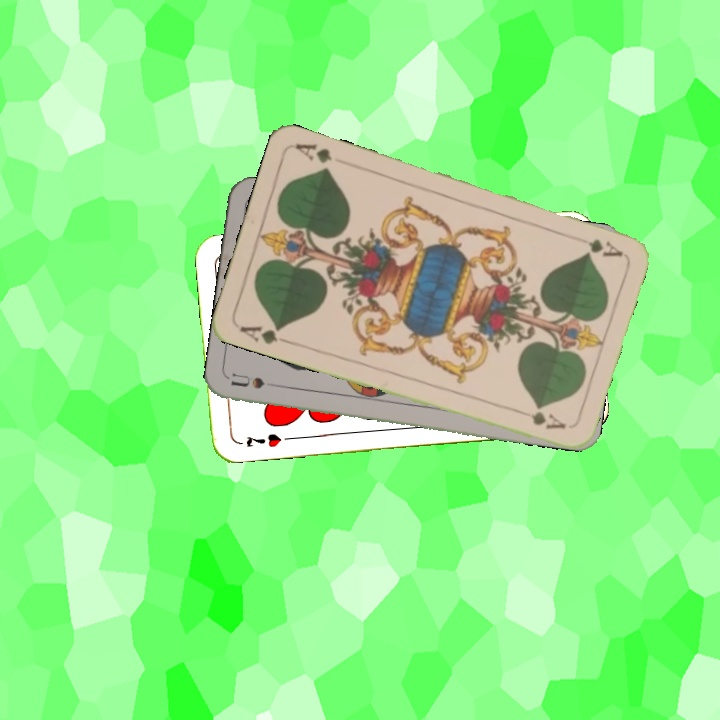GA: (236, 320, 293, 347), (584, 235, 625, 260)
H7: (242, 430, 284, 450)
SU: (228, 369, 288, 391)
